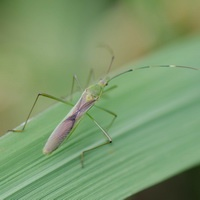insect: (0, 68, 199, 199), (139, 37, 199, 67)
